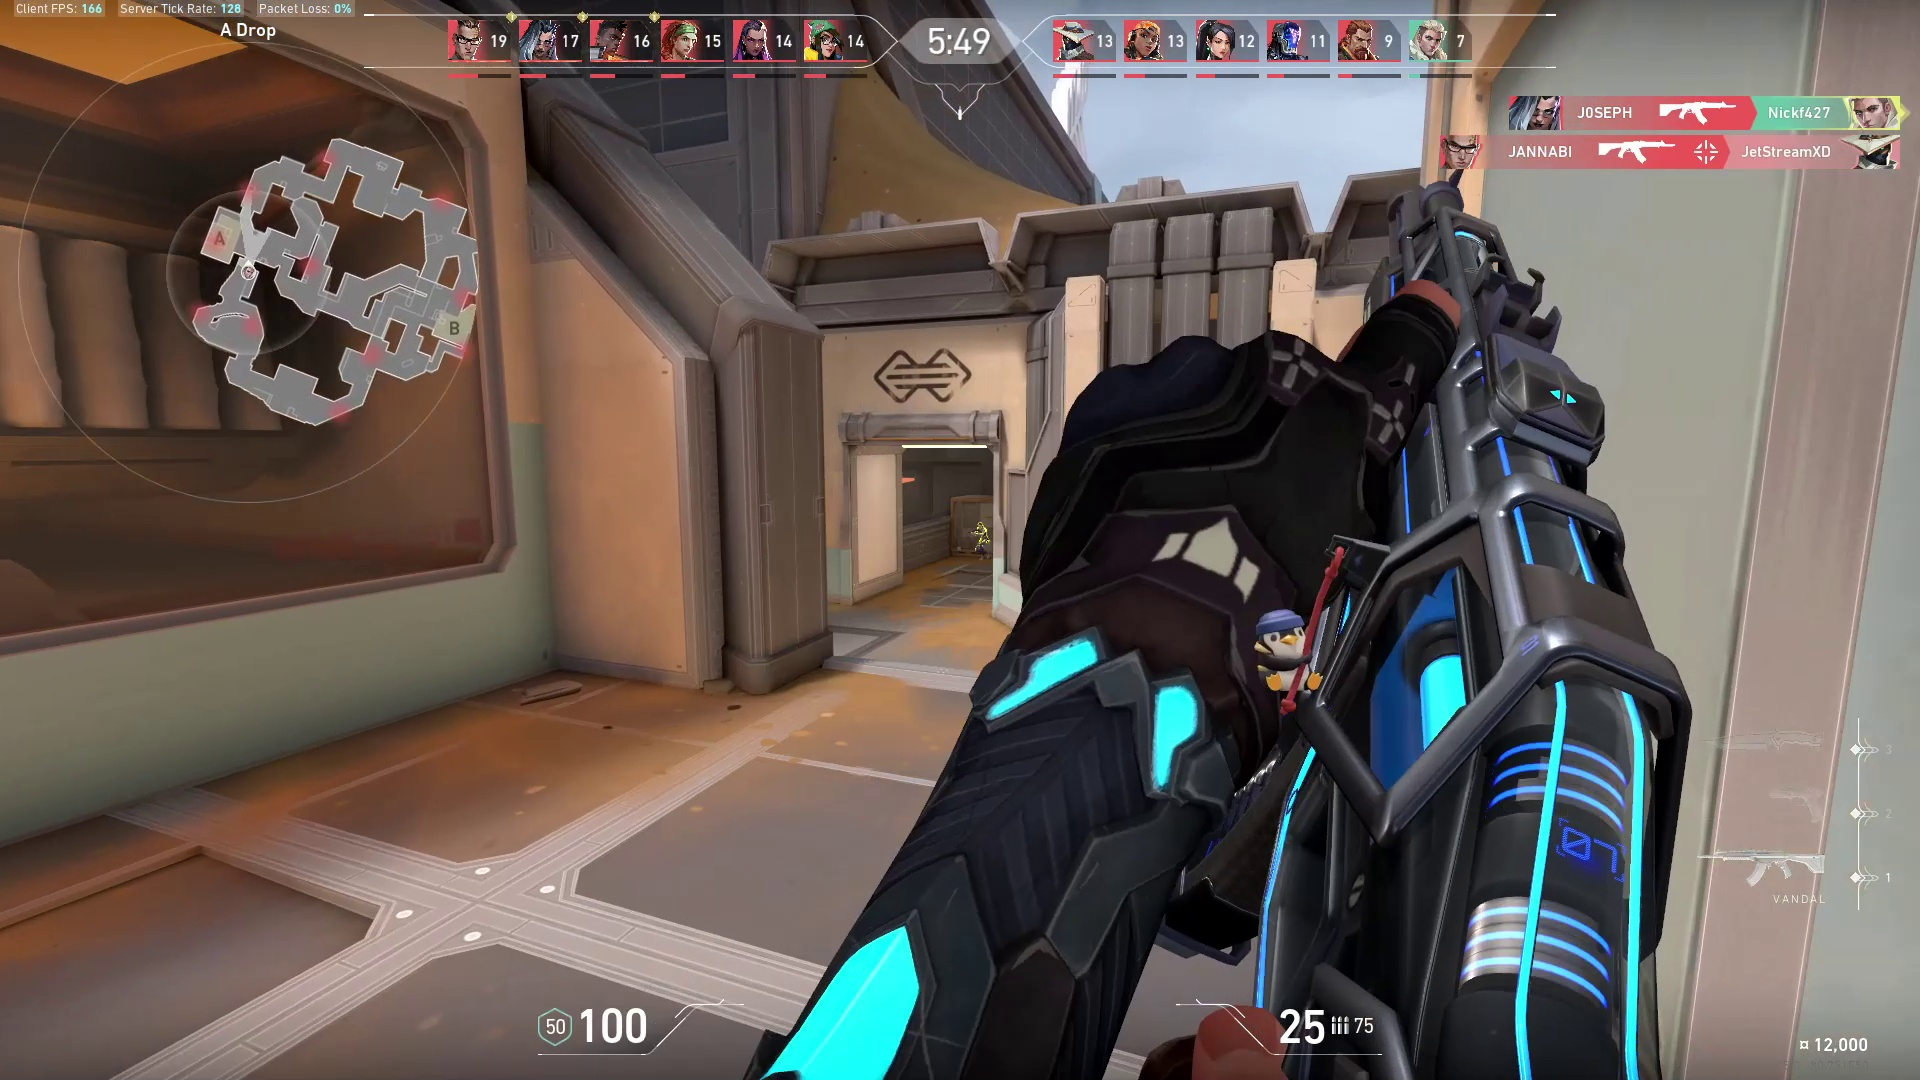1: (971, 529, 993, 560)
["enemy_head", "enemy_body", "enemy_gen", "dog"]: (975, 520, 985, 529)
